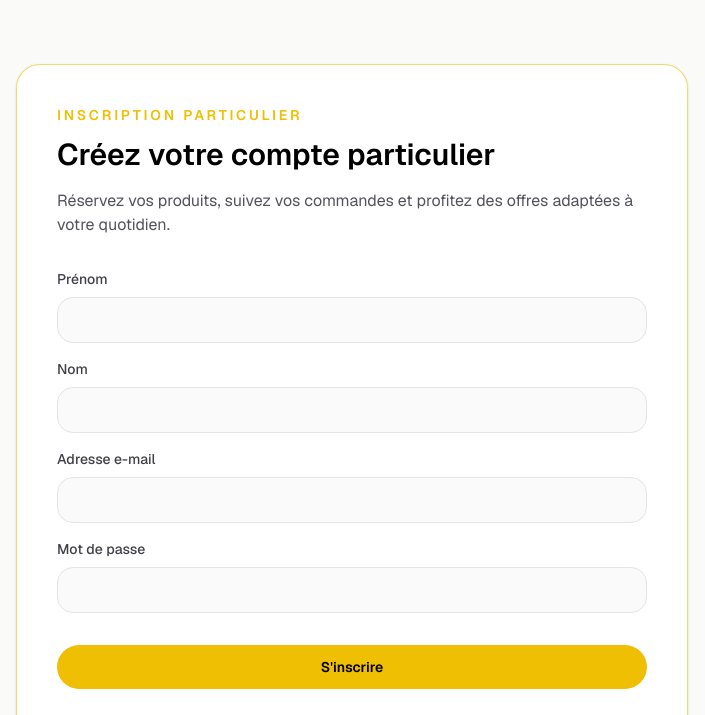
Test case: Inscription particulier › affiche une erreur si des champs sont vides
The width and height of the screenshot is (705, 715).
What coordinates should you click on to do the following:
click the button "S'inscrire"
I would click on:
 (352, 667)
Its box is [57,645,647,689].
(page scrolled)
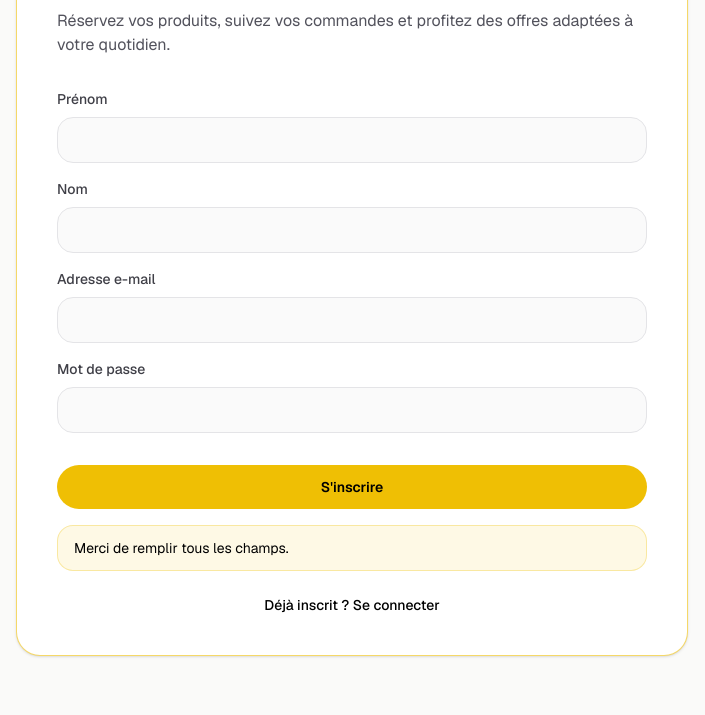
Expected: the text "Merci de remplir tous les champs." is shown, [57,525,647,571]
